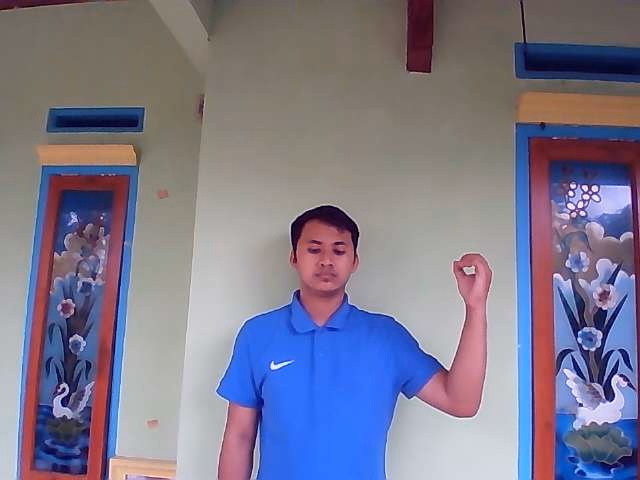O: (452, 252, 494, 308)
